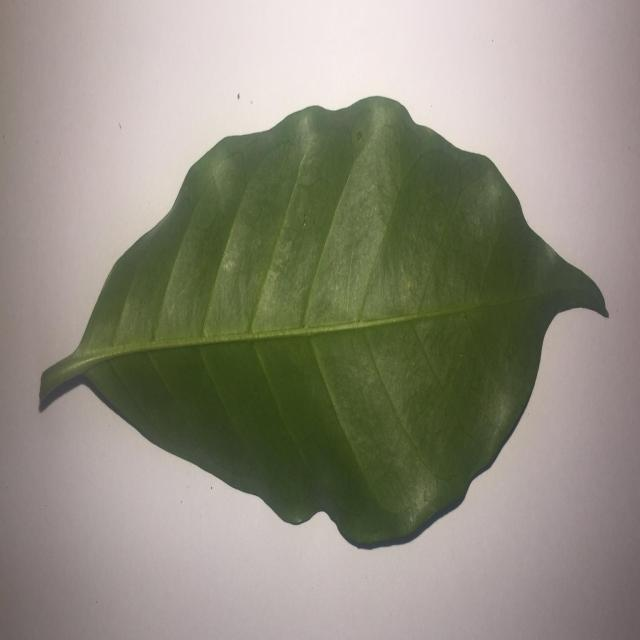Sanas: (38, 95, 610, 552)
